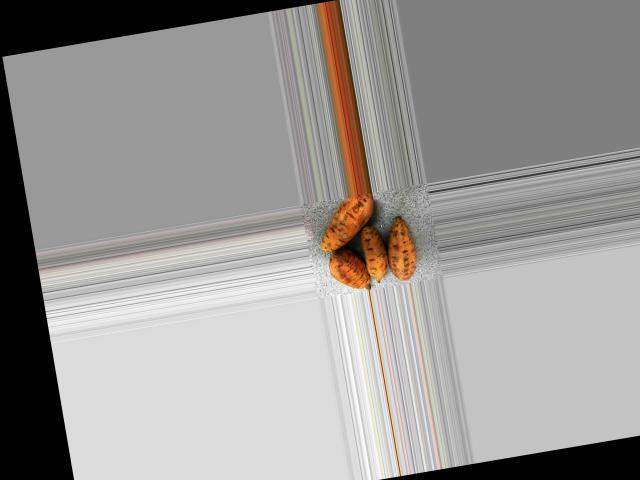sweet_potato: (307, 191, 387, 253)
